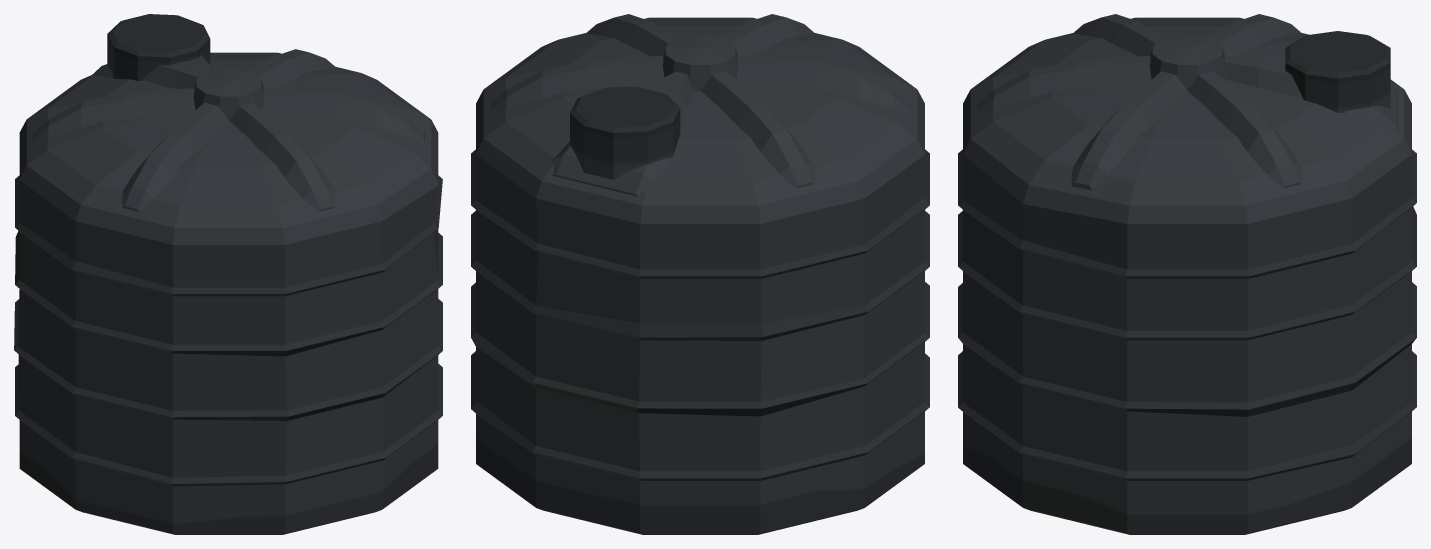
The model's file is SM_Prop_WaterTank_05.glb.
The picture shows the model from 3 angles, left to right: view 1: azimuth 30°, elevation 25°; view 2: azimuth 150°, elevation 25°; view 3: azimuth 270°, elevation 25°; orthographic projection. The views are drawn at different scales.
Visible parts, largest first — view 1: SM_Prop_WaterTank_05; view 2: SM_Prop_WaterTank_05; view 3: SM_Prop_WaterTank_05.
Boxes of the visible parts, x1,y1,x2,y2 form: SM_Prop_WaterTank_05: (14, 14, 442, 534); SM_Prop_WaterTank_05: (471, 14, 929, 534); SM_Prop_WaterTank_05: (958, 14, 1416, 534).
Bounding box in the file's own units: 2.76 × 2.63 × 2.76.
Materials: 1 (1 with a texture image).
